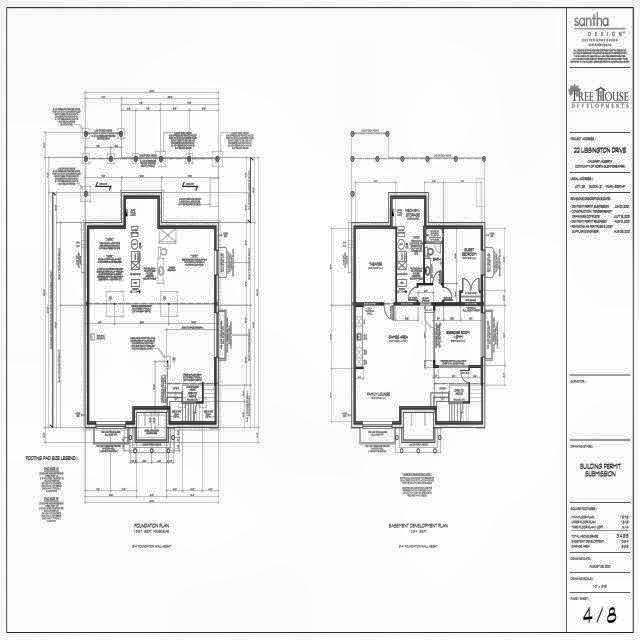room: (392, 199, 424, 303), (356, 229, 396, 302), (435, 305, 481, 365), (444, 229, 481, 302), (425, 229, 443, 283), (418, 285, 442, 303)
